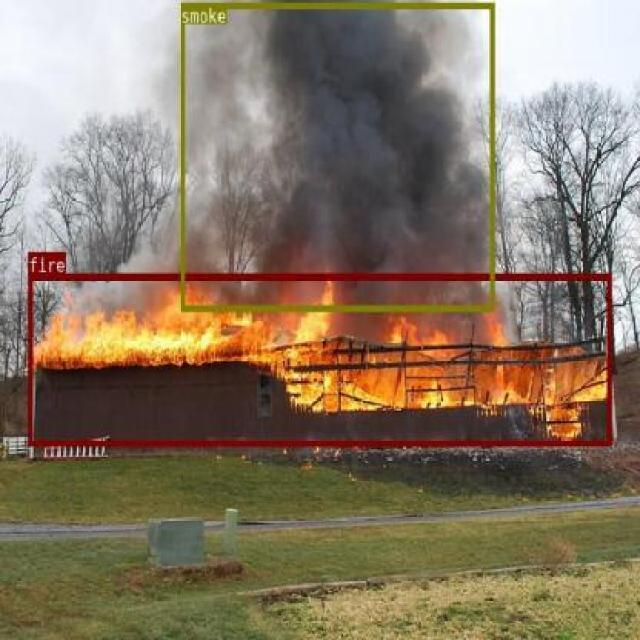Fire: (27, 272, 610, 445)
Smoke: (179, 2, 493, 310)
